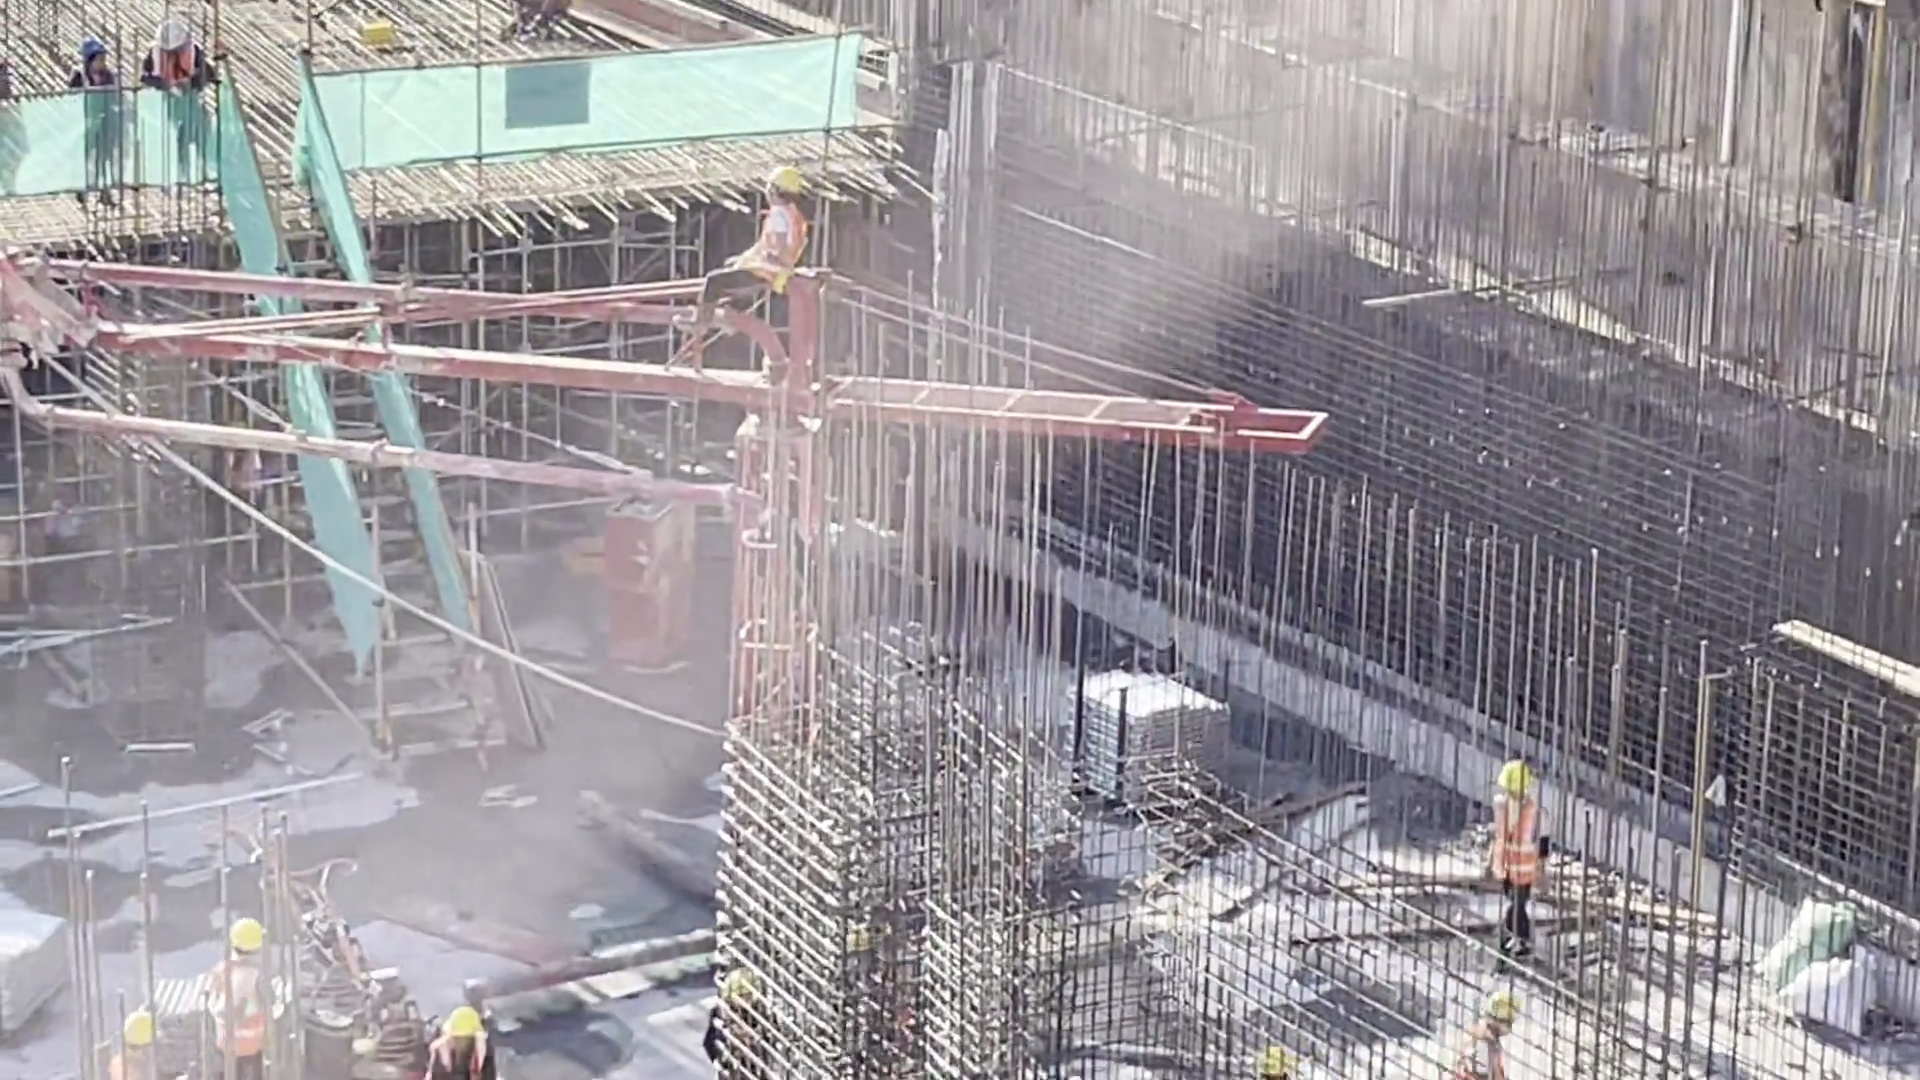helmet: (217, 917, 275, 949), (728, 960, 762, 1013), (752, 172, 808, 200), (1489, 765, 1536, 794), (1262, 1042, 1297, 1080), (125, 1008, 159, 1046), (447, 1004, 493, 1031), (148, 20, 191, 48), (1492, 989, 1521, 1028), (75, 48, 101, 67)
person: (673, 164, 822, 380), (1484, 757, 1571, 974), (191, 913, 295, 1064), (145, 9, 233, 175), (64, 42, 145, 209), (1443, 989, 1540, 1080), (412, 993, 511, 1078), (710, 967, 769, 1080), (115, 980, 178, 1080)
scaffold: (1073, 662, 1224, 818), (1, 895, 101, 1017), (158, 961, 249, 1037)
vest: (722, 210, 806, 299), (201, 967, 268, 1050), (1486, 794, 1533, 887), (1443, 1034, 1505, 1078), (162, 59, 208, 99), (72, 69, 120, 105), (438, 1045, 491, 1074)
